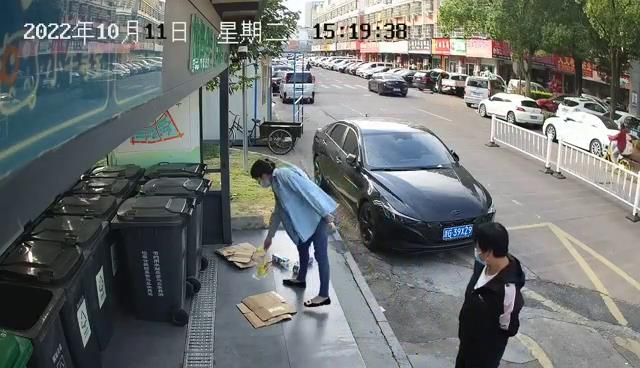person: (453, 219, 526, 368)
suliaozhipin: (253, 245, 272, 278)
worker: (249, 157, 339, 308)
zhizhipin: (235, 289, 298, 329), (214, 239, 261, 270), (270, 252, 291, 271)
